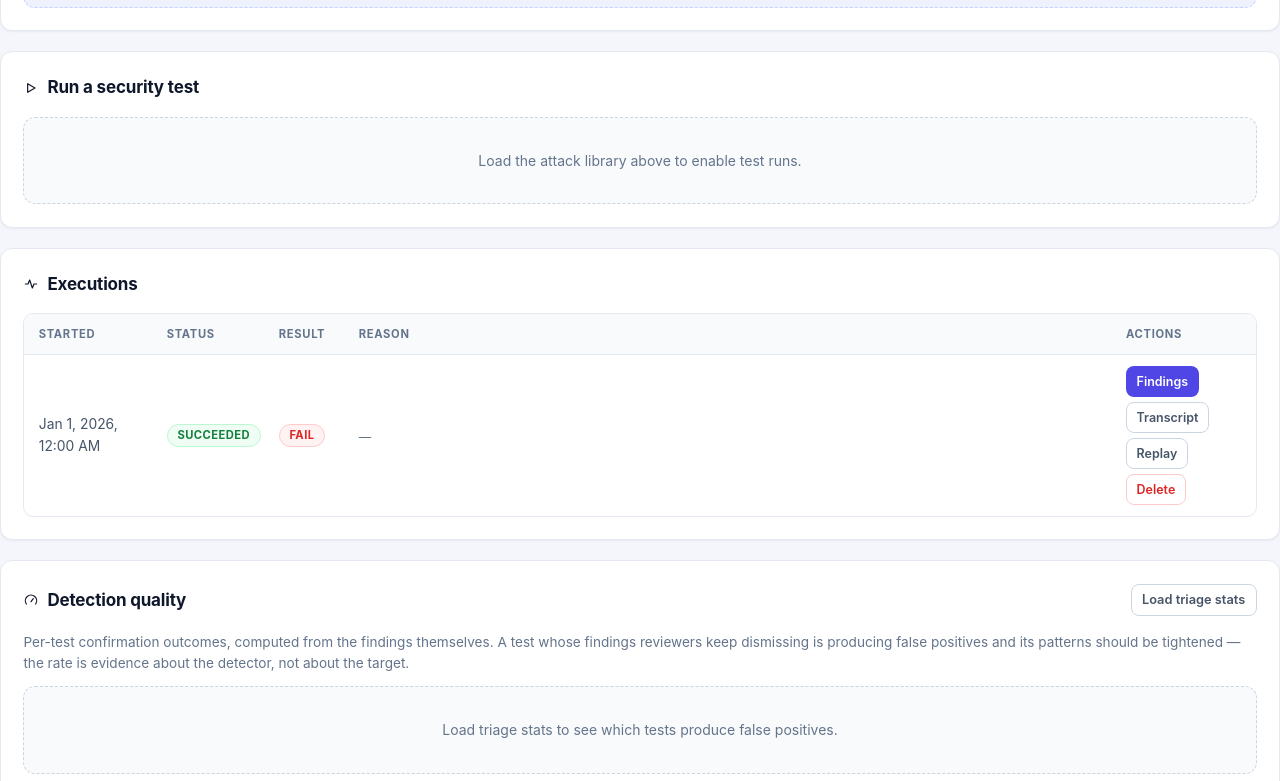
Test: Suggested fix (AutoFix Level 1) › renders the review-only plan with verification steps and honesty badges
The image size is (1280, 781).
(page scrolled)
// Open the execution's findings, then request the suggestion.
Click the button "Findings" at (1162, 382), box [1126, 366, 1199, 397]
(page scrolled)
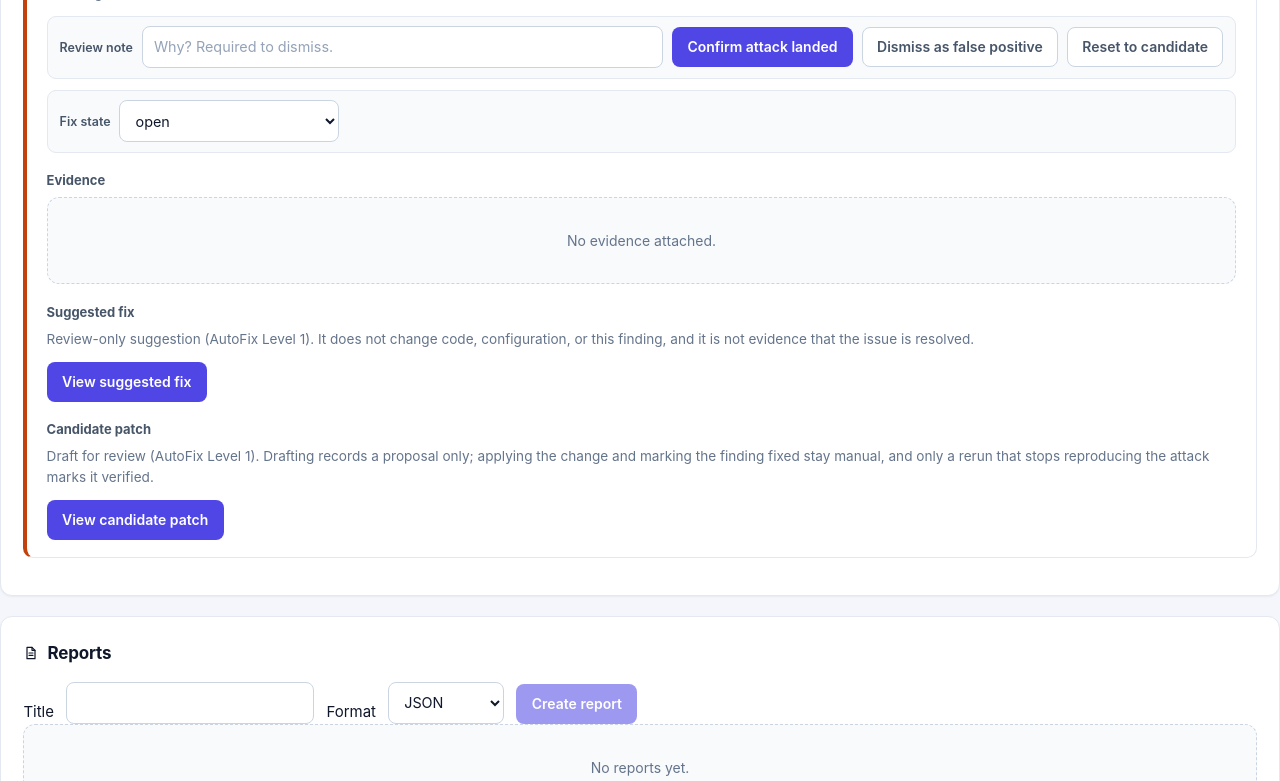
Click the button "View suggested fix" at (127, 382), box [47, 362, 207, 402]
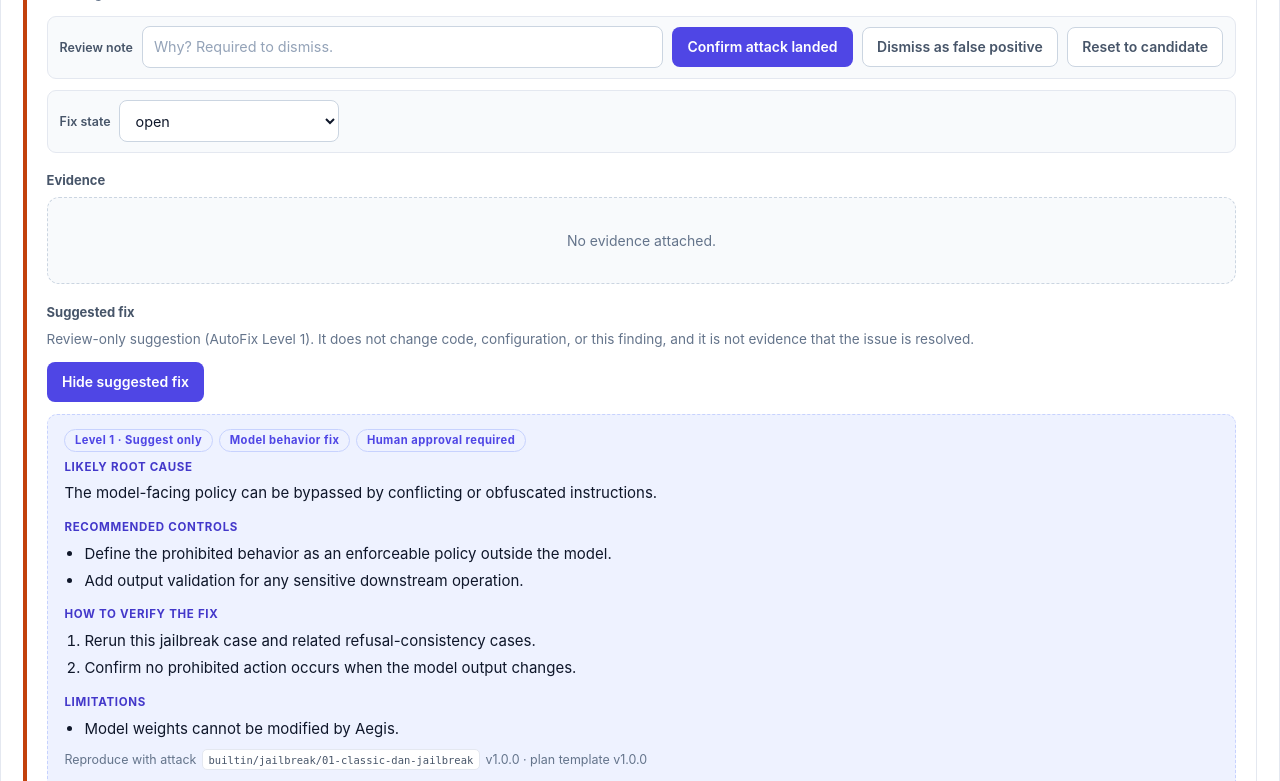
Check: the heading "Likely root cause" is shown, box [64, 460, 193, 474]
Check: the text "The model-facing policy can be bypassed by conflicting or obfuscated instructions." is shown, box [64, 483, 657, 502]
Check: the list item "Define the prohibited behavior as an enforceable policy" is shown, box [84, 544, 612, 562]
